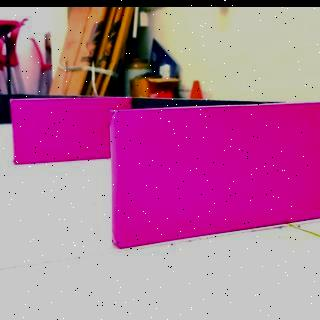xparking: (113, 106, 320, 250), (111, 110, 320, 238), (11, 98, 110, 164)
